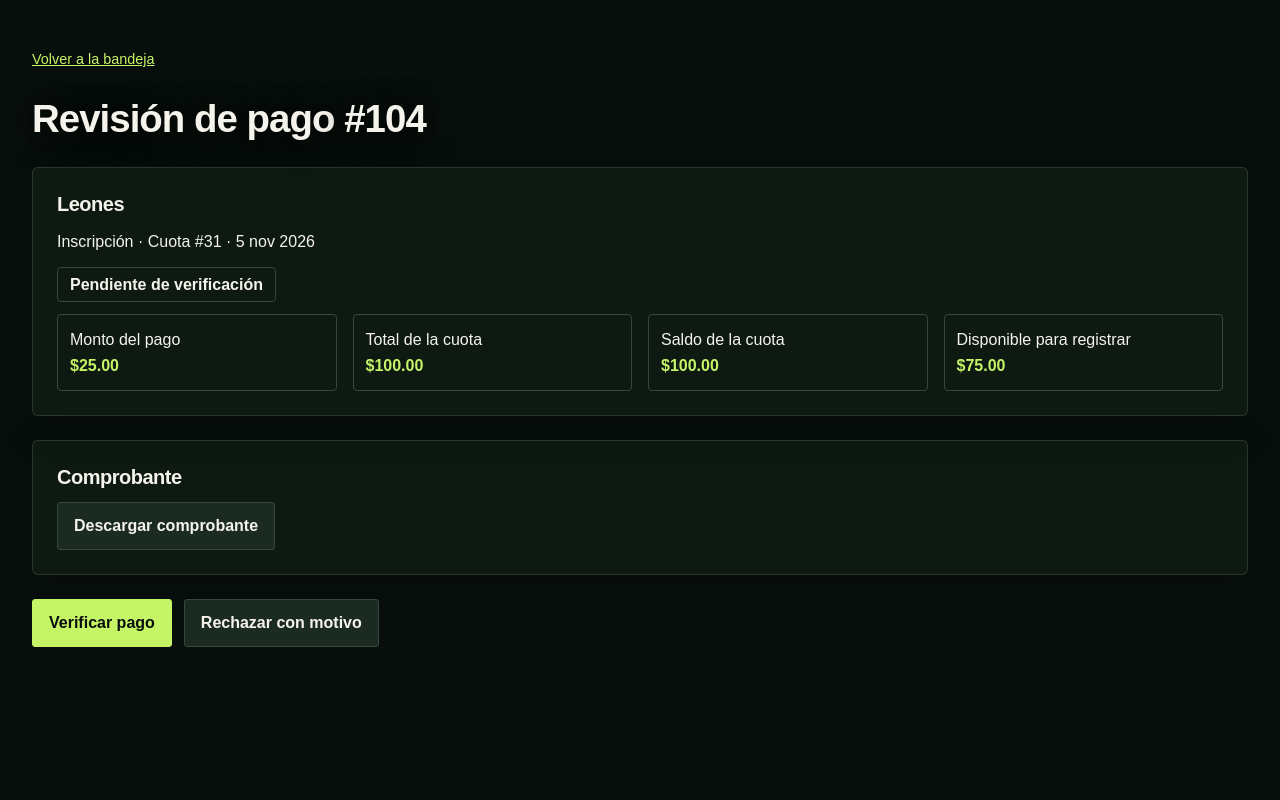
Scenario: verifica únicamente después de confirmar y presenta el saldo devuelto
Click the button "Verificar pago": (102, 623) left=32, top=599, right=172, bottom=647
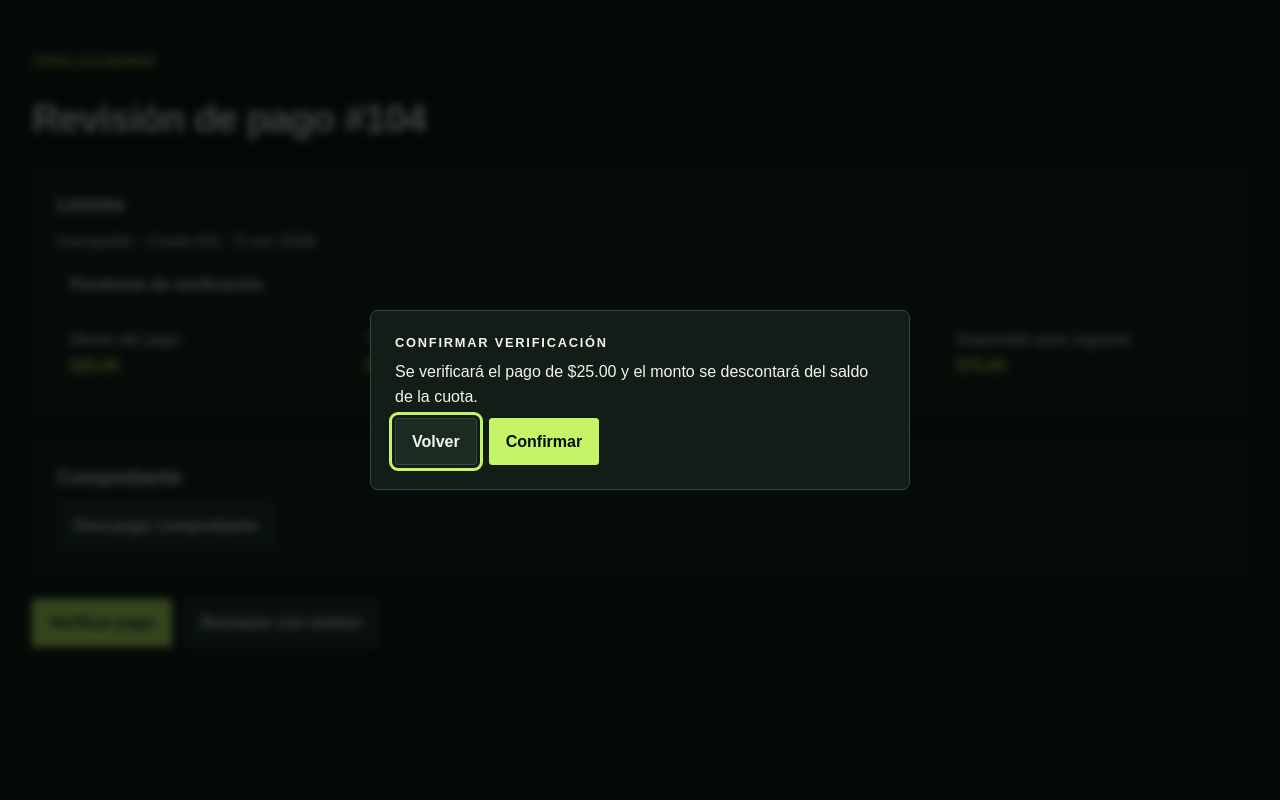
Click the button "Confirmar": (544, 442) left=489, top=418, right=599, bottom=465
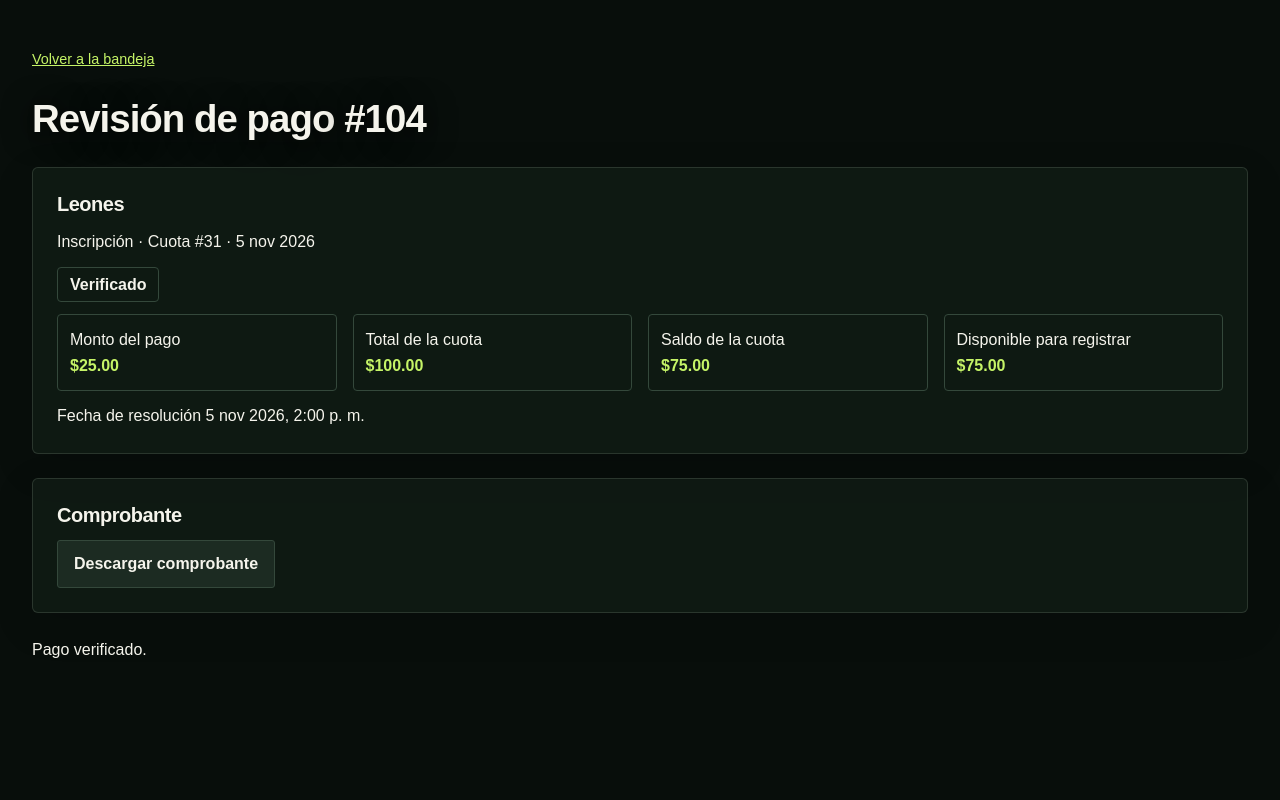
Result: the text "Pago verificado." is shown at left=32, top=641, right=147, bottom=658
Result: the text "$75.00" below "Saldo de la cuota" is shown at left=661, top=357, right=710, bottom=374
Result: the button "Verificar pago" is gone
